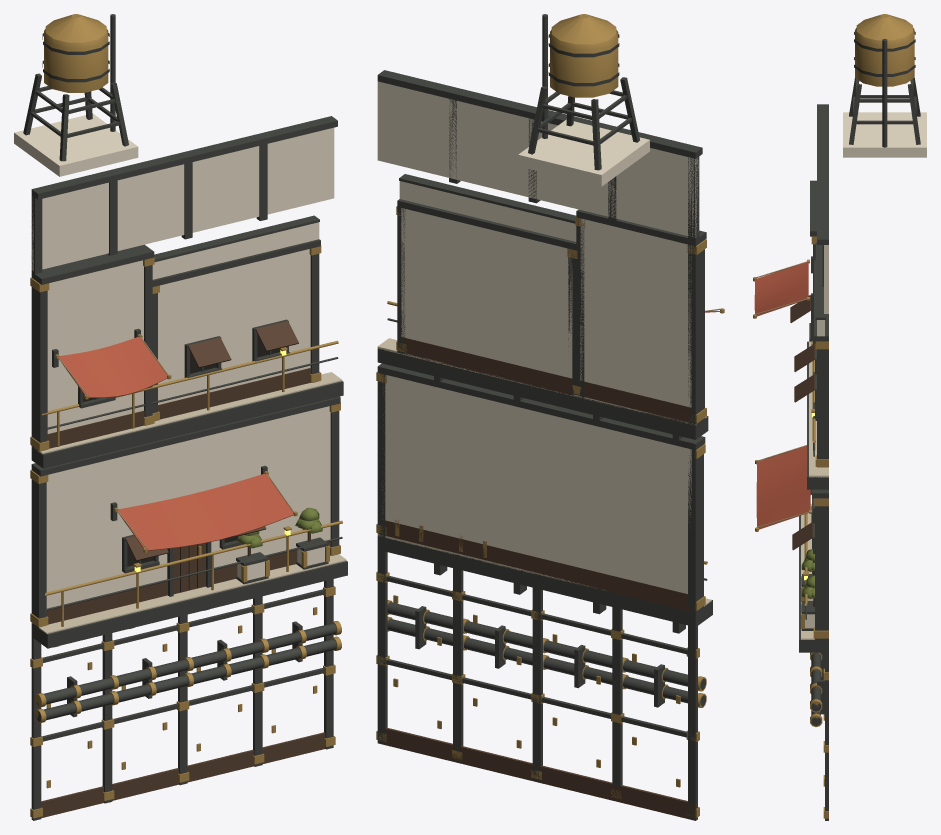
File: terrace_d.glb
The picture shows the model from 3 angles, left to right: view 1: azimuth 30°, elevation 25°; view 2: azimuth 150°, elevation 25°; view 3: azimuth 270°, elevation 25°; orthographic projection. The views are drawn at different scales.
Parts seen in each view (by area): view 1: terrace_d; view 2: terrace_d; view 3: terrace_d.
Part boxes in pixels (bbox=[...]): terrace_d: bbox=[14, 14, 347, 820]; terrace_d: bbox=[376, 14, 724, 820]; terrace_d: bbox=[753, 14, 926, 820].
Bounding box in the file's own units: 8.06 × 19.43 × 4.35.
